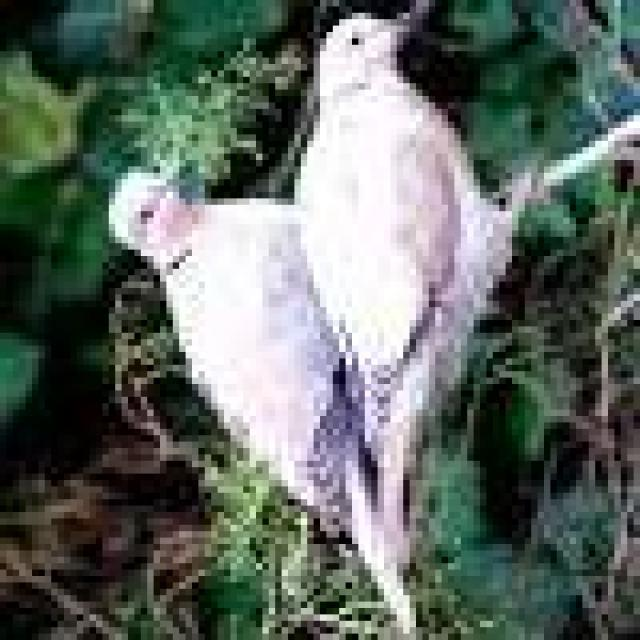pigeon: (294, 0, 531, 518)
